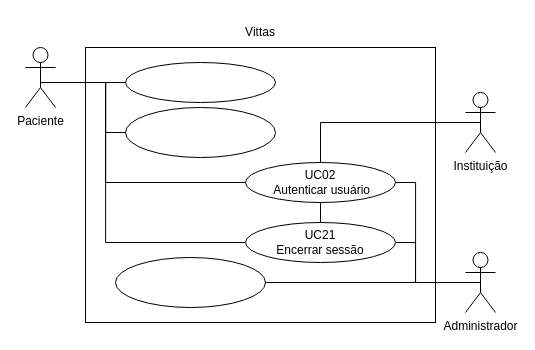
This 535x350 diagram has some shape labels left out. The box of each missing label's shape, as (x1, y1, x2, y2) in pixels:
UC01 Cadastrar paciente: (124, 62, 276, 102)
UC03 - Gerenciar perfil do paciente: (124, 106, 276, 158)
UC18 Administrar usuários e permissões: (114, 256, 266, 308)
